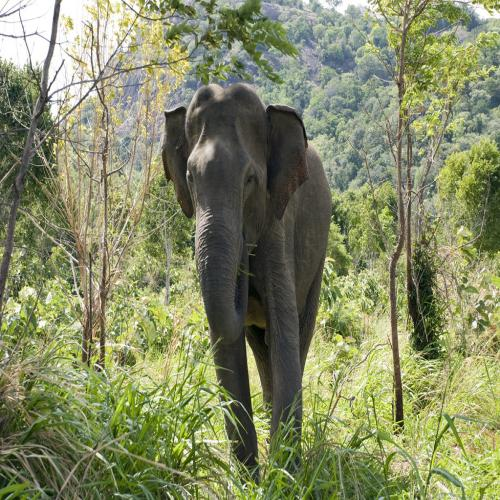asian_elephant-endangered: (157, 84, 332, 450)
